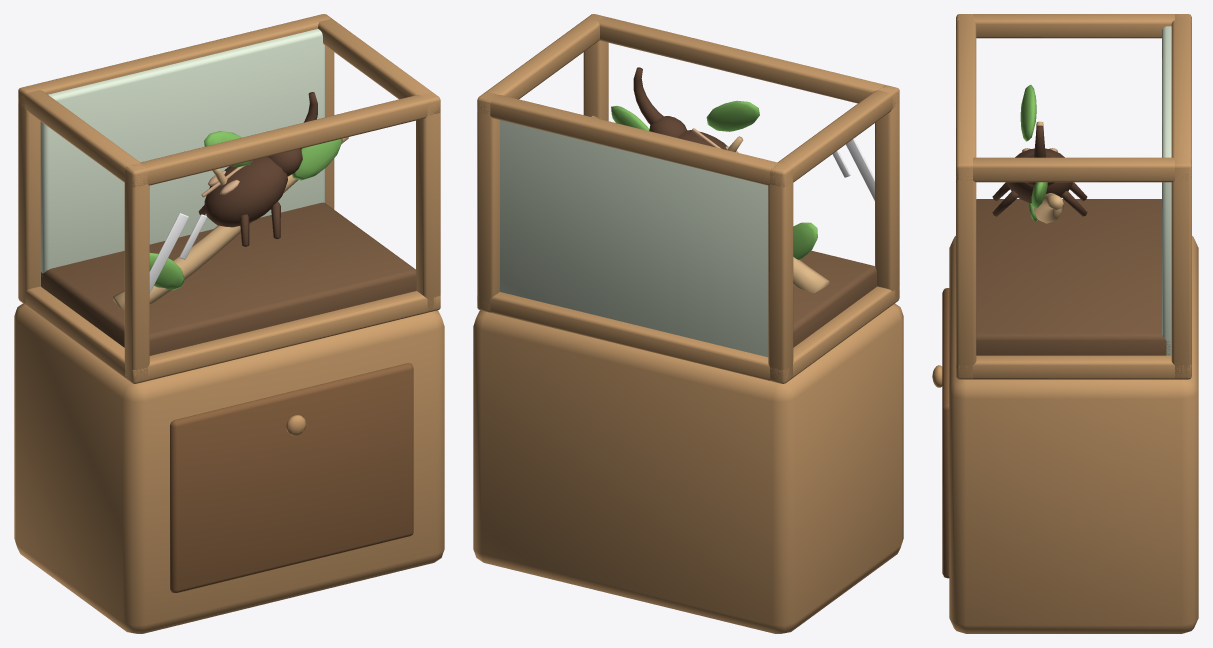
The model's file is bug-case.glb.
3 renders of one model, left to right at view 1: azimuth 30°, elevation 25°; view 2: azimuth 150°, elevation 25°; view 3: azimuth 270°, elevation 25°, orthographic.
Parts seen in each view (by area): view 1: case, stand; view 2: stand, case; view 3: stand, case.
Part boxes in pixels (<box>): case: <box>18,14,440,383</box>; stand: <box>14,303,444,633</box>; stand: <box>473,303,903,633</box>; case: <box>477,14,899,383</box>; stand: <box>932,236,1198,633</box>; case: <box>956,14,1191,379</box>.
Size of the model in its own units: 0.66 by 0.92 by 0.47.
